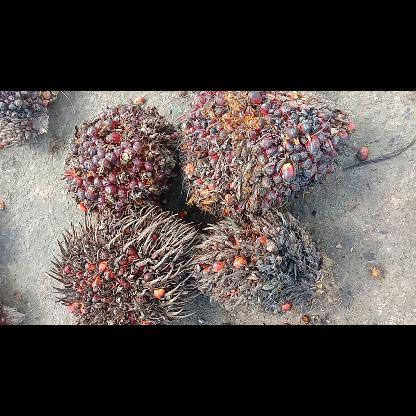TBS masak: (178, 90, 352, 218), (61, 100, 178, 216)
Terlalu masak: (47, 206, 200, 324), (190, 209, 334, 313)
